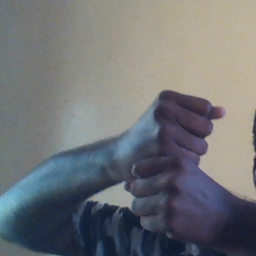G: (117, 86, 229, 239)
